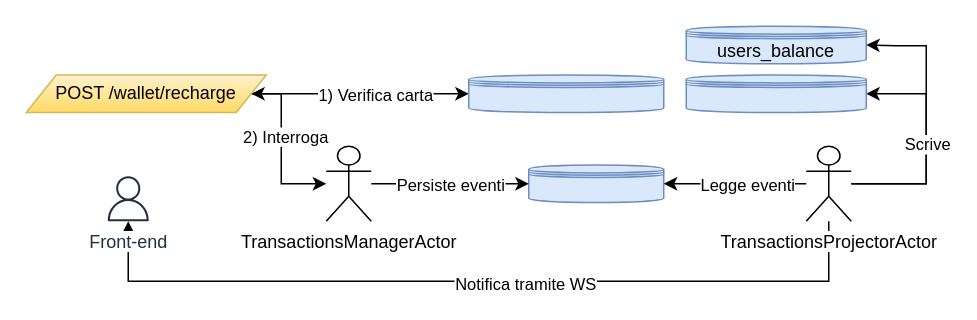
The diagram is 977 pixels wide and 320 high, and some of its shapes have lost their labels. The centre of each missing label's shape, as x and y in pixels:
"Akka Journal" goes at point 595,183.
"transactions_history" goes at point 775,93.
"users_payment_cards" goes at point 565,93.
